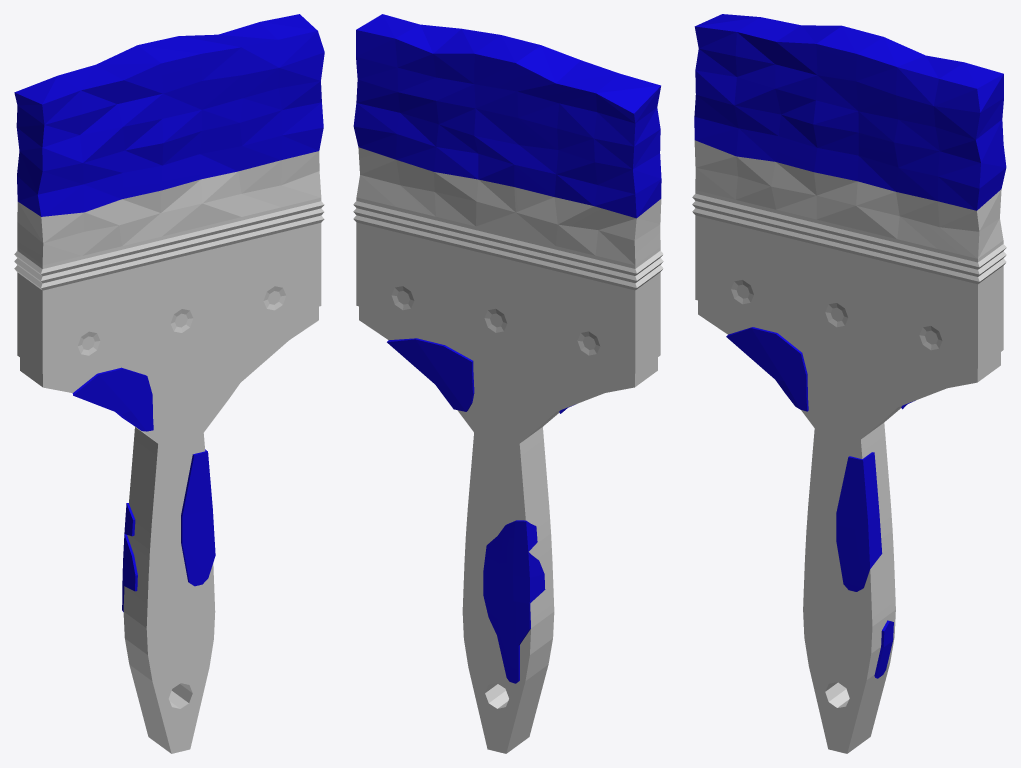
File: SM_Paint_Brush_In_Paint.glb
The picture shows the model from 3 angles, left to right: view 1: azimuth 30°, elevation 25°; view 2: azimuth 150°, elevation 25°; view 3: azimuth 330°, elevation 25°; orthographic projection.
Visible parts, largest first — view 1: SM_Paint_Brush_In_Paint; view 2: SM_Paint_Brush_In_Paint; view 3: SM_Paint_Brush_In_Paint.
Part boxes in pixels (x1=…): SM_Paint_Brush_In_Paint: x1=14, y1=14, x2=324, y2=753; SM_Paint_Brush_In_Paint: x1=353, y1=14, x2=663, y2=753; SM_Paint_Brush_In_Paint: x1=692, y1=14, x2=1006, y2=753.
Bounding box in the file's own units: 0.1244 × 0.2899 × 0.0224.
